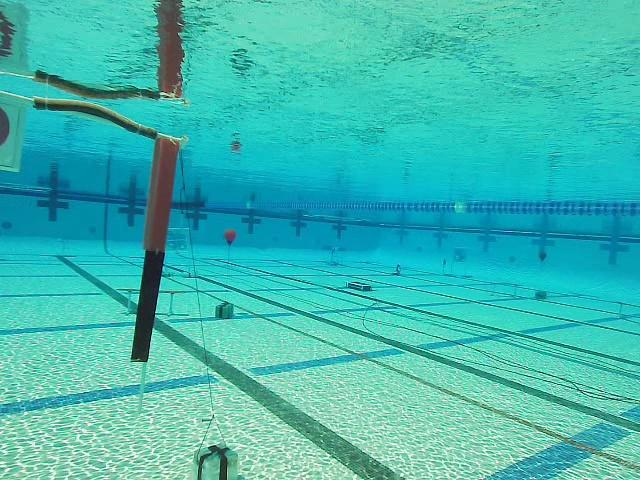buoy: (224, 227, 237, 247)
dropper: (340, 281, 373, 294)
gate_leg_l: (129, 136, 183, 363)
table: (319, 242, 350, 269)
torpedo: (450, 245, 468, 263)
